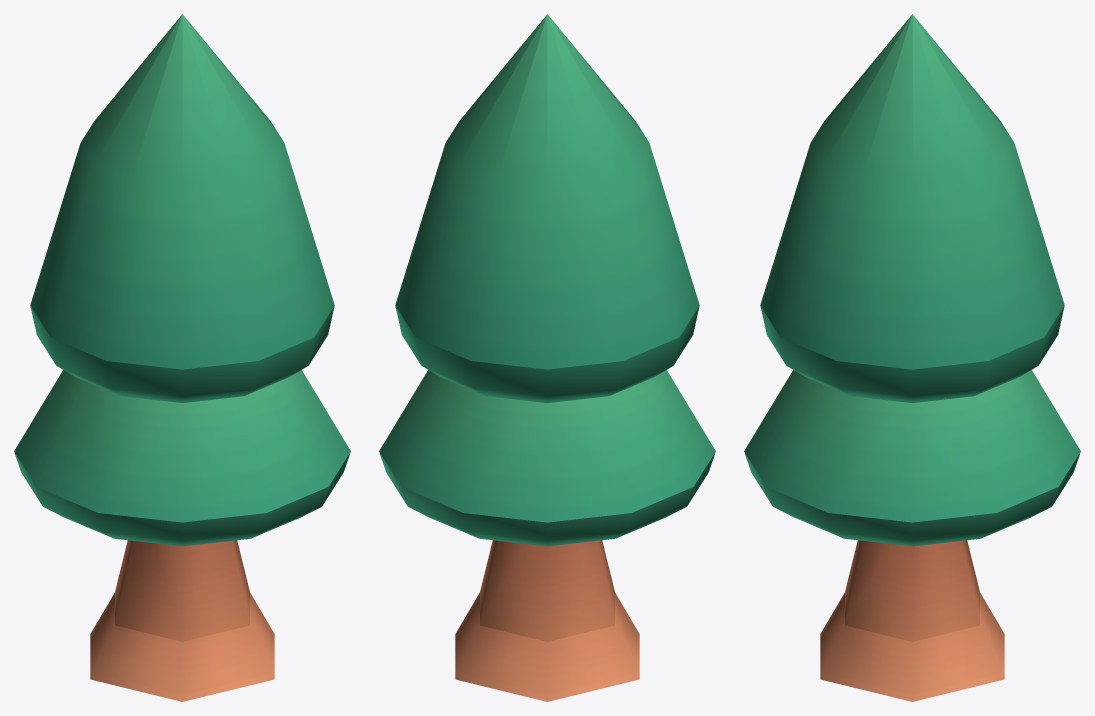
The model's file is Tree.glb.
3 views of the same model, side by side, from view 1: azimuth 30°, elevation 25°; view 2: azimuth 150°, elevation 25°; view 3: azimuth 270°, elevation 25° (orthographic).
Visible parts, largest first — view 1: tree-pine; view 2: tree-pine; view 3: tree-pine.
Boxes of the visible parts, x1,y1,x2,y2 form: tree-pine: (14, 14, 350, 701); tree-pine: (379, 14, 715, 701); tree-pine: (744, 14, 1080, 701).
Size of the model in its own units: 0.9485 by 2 by 0.9485.
1 material, 1 textured.
